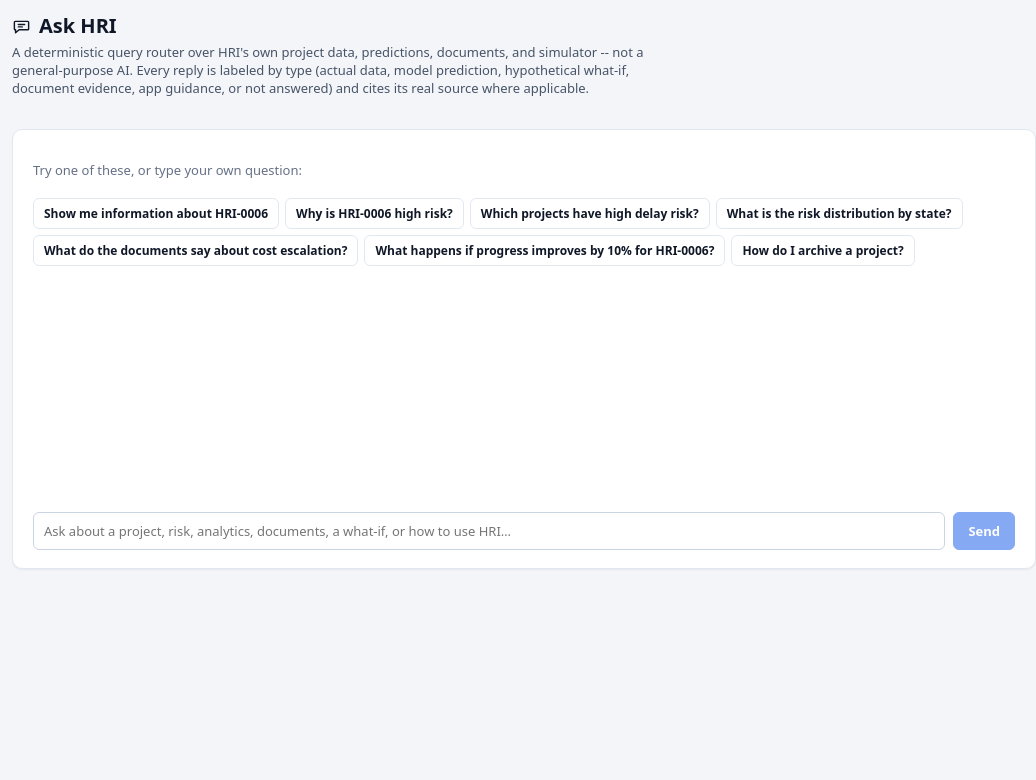
AskHRI page › renders a successful actual-data response
Replace the text in the field named "Ask HRI" with "Show me information about HRI-0006" at point(489, 531), box x1=33 y1=512 x2=945 y2=550
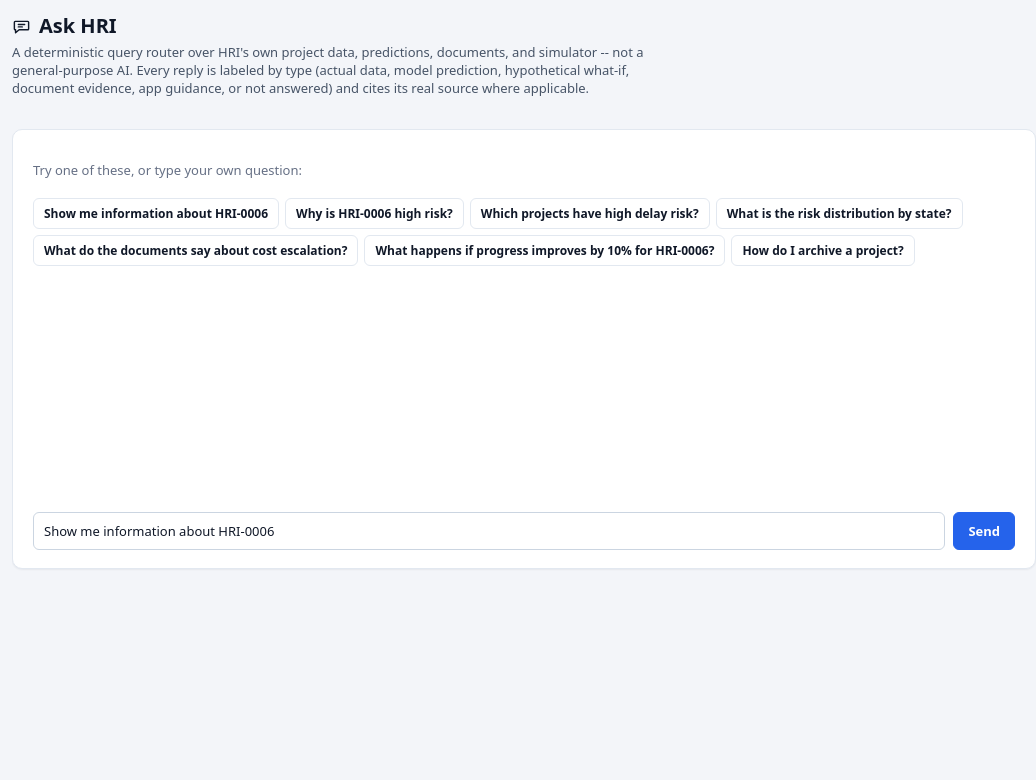
Click the button "Send" at point(984, 531), box x1=953 y1=512 x2=1015 y2=550
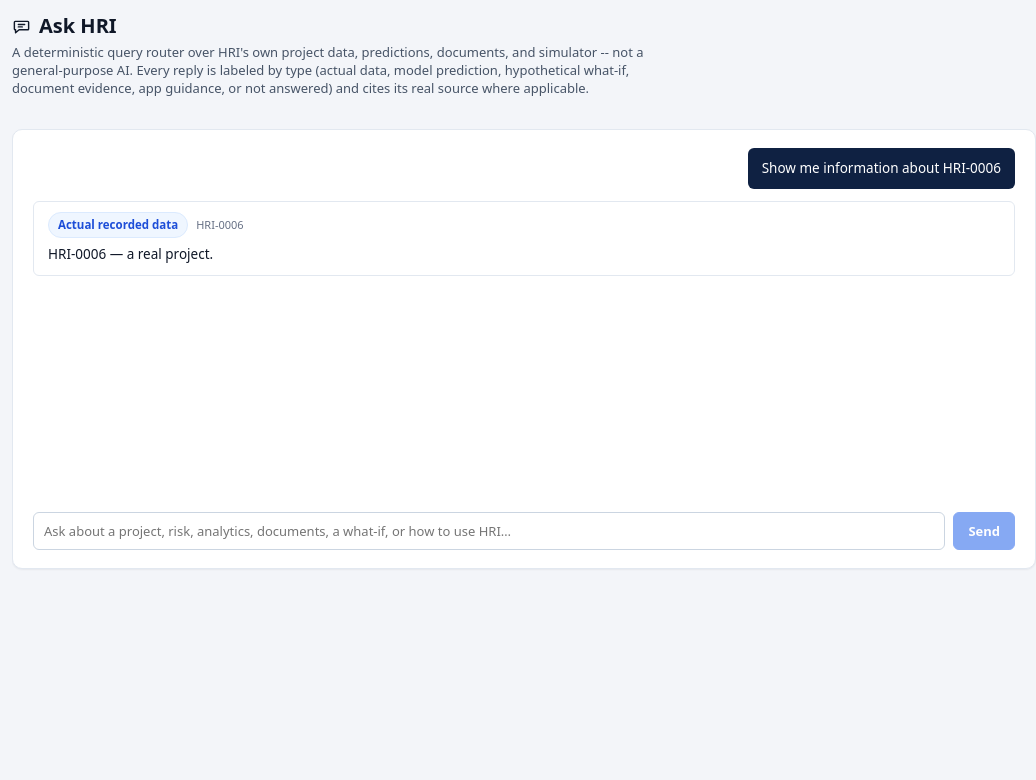
Now the text "HRI-0006 — a real project." is shown, box x1=48 y1=245 x2=213 y2=263
Now the text "Actual recorded data" is shown, box x1=48 y1=212 x2=188 y2=238
